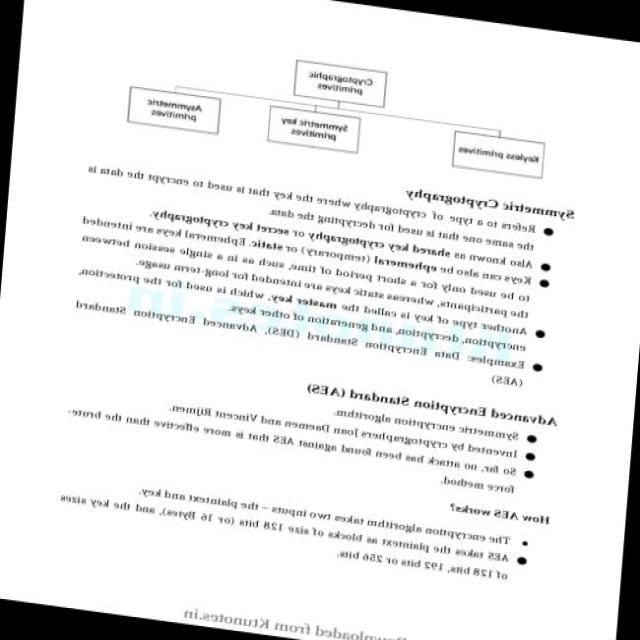Figure Detection - v3 Dataset Version2: (113, 18, 568, 194)
